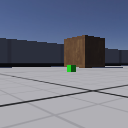green_cube: (67, 65, 76, 72)
obstacle: (64, 34, 105, 68)
